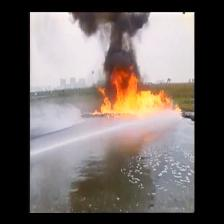fire: (93, 65, 182, 114)
